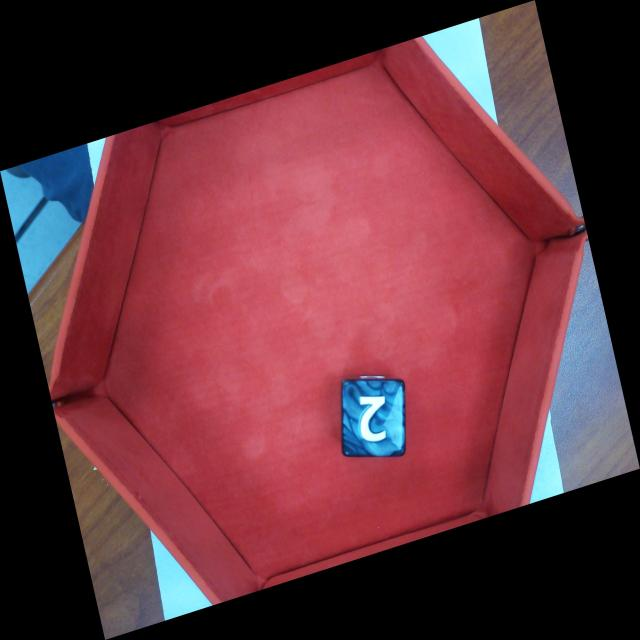dice: (345, 384, 404, 452)
